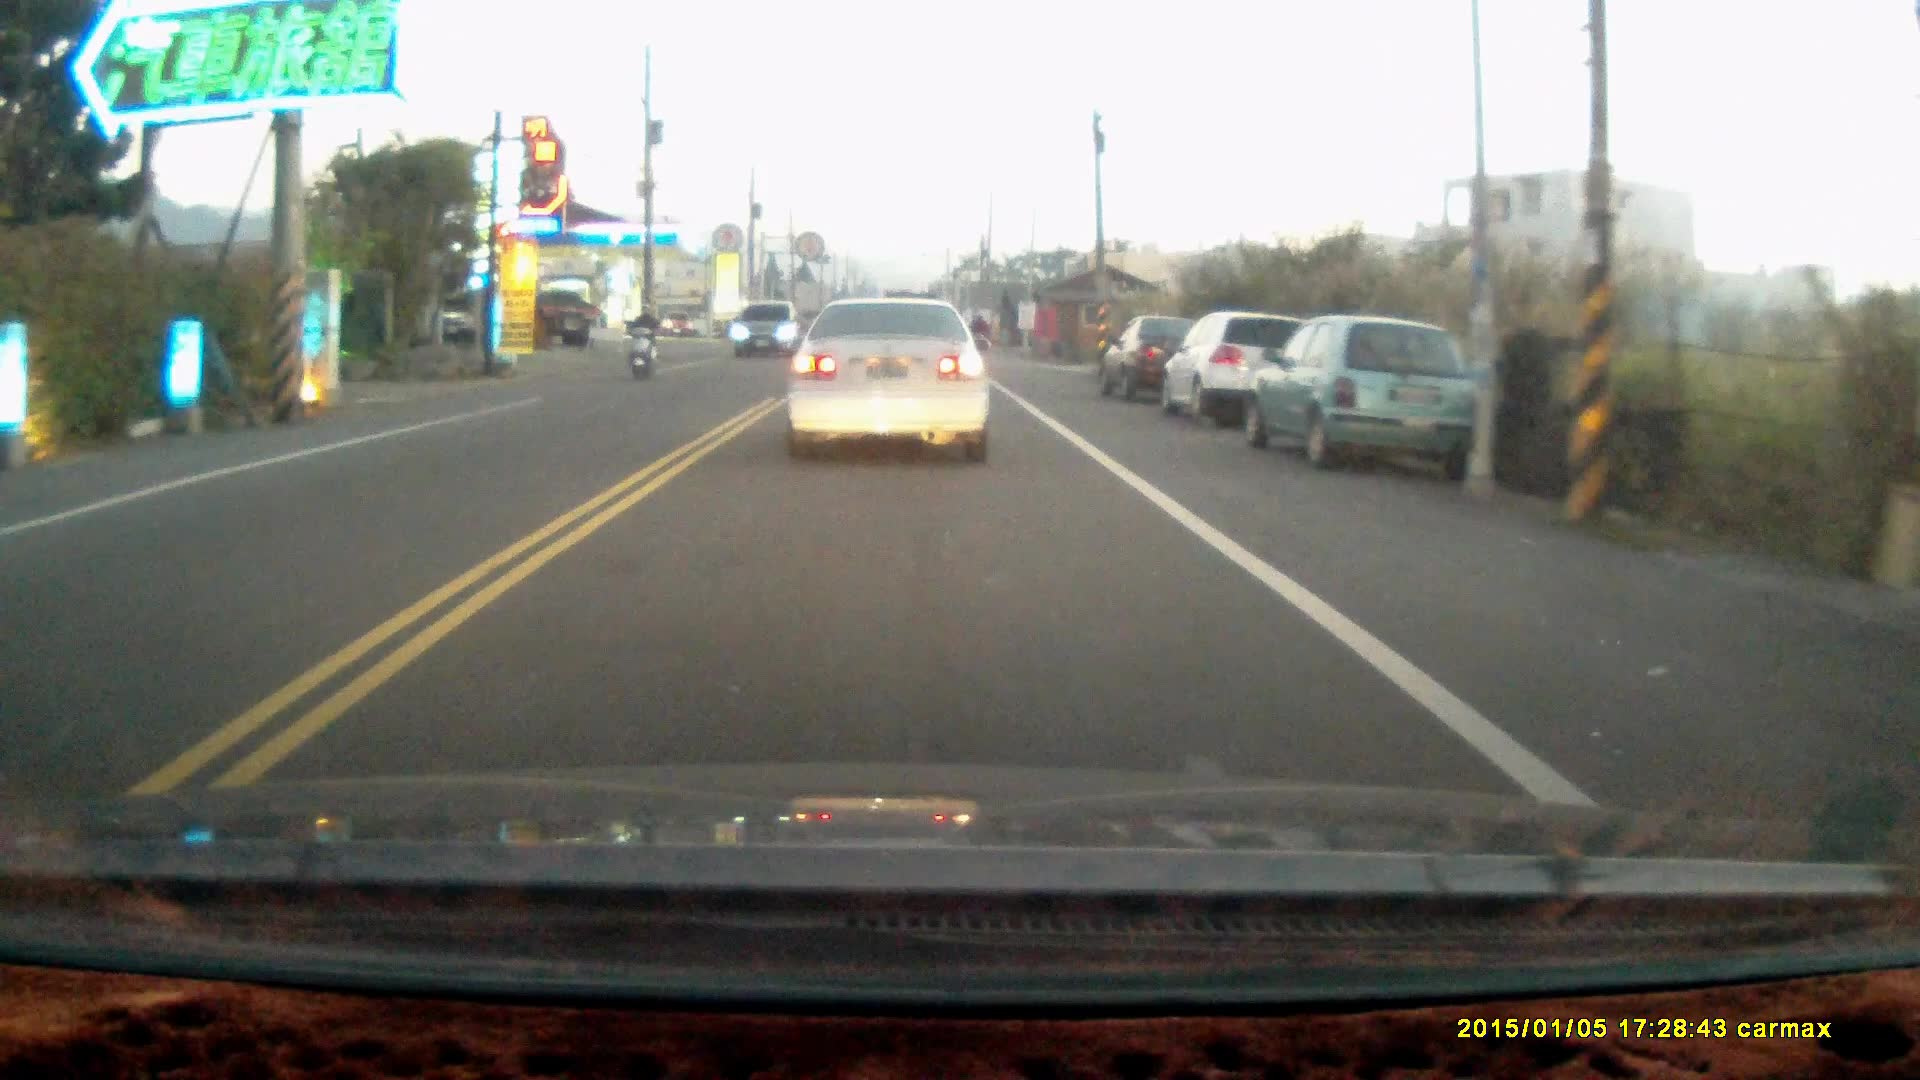rider: (625, 302, 659, 378)
vehicle: (1238, 314, 1480, 472), (786, 292, 998, 465), (1166, 311, 1313, 428), (1104, 315, 1201, 401), (736, 302, 804, 360)
